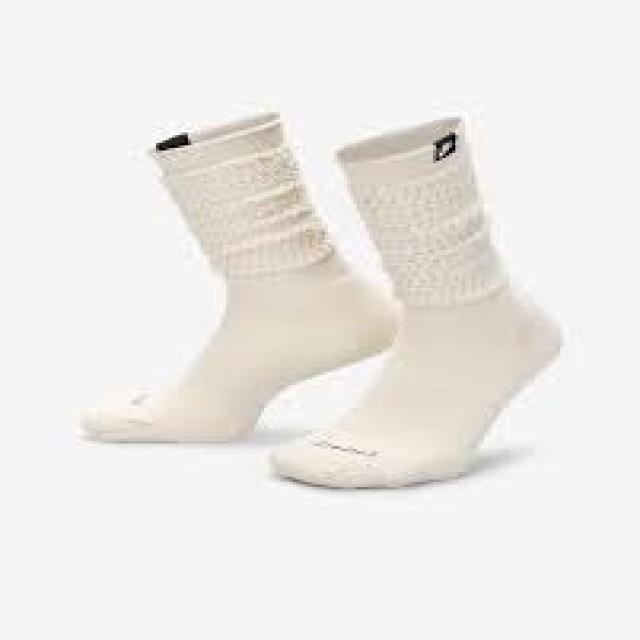sock: (264, 112, 564, 490), (76, 107, 402, 444)
